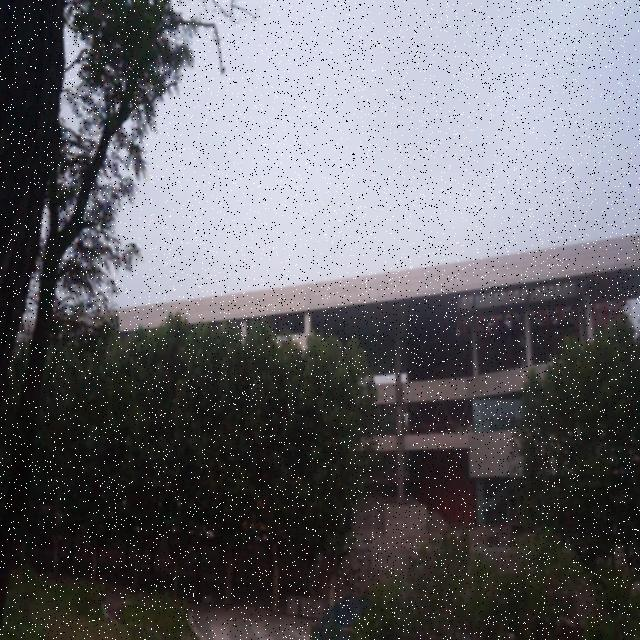UAV: (278, 337, 292, 347)
